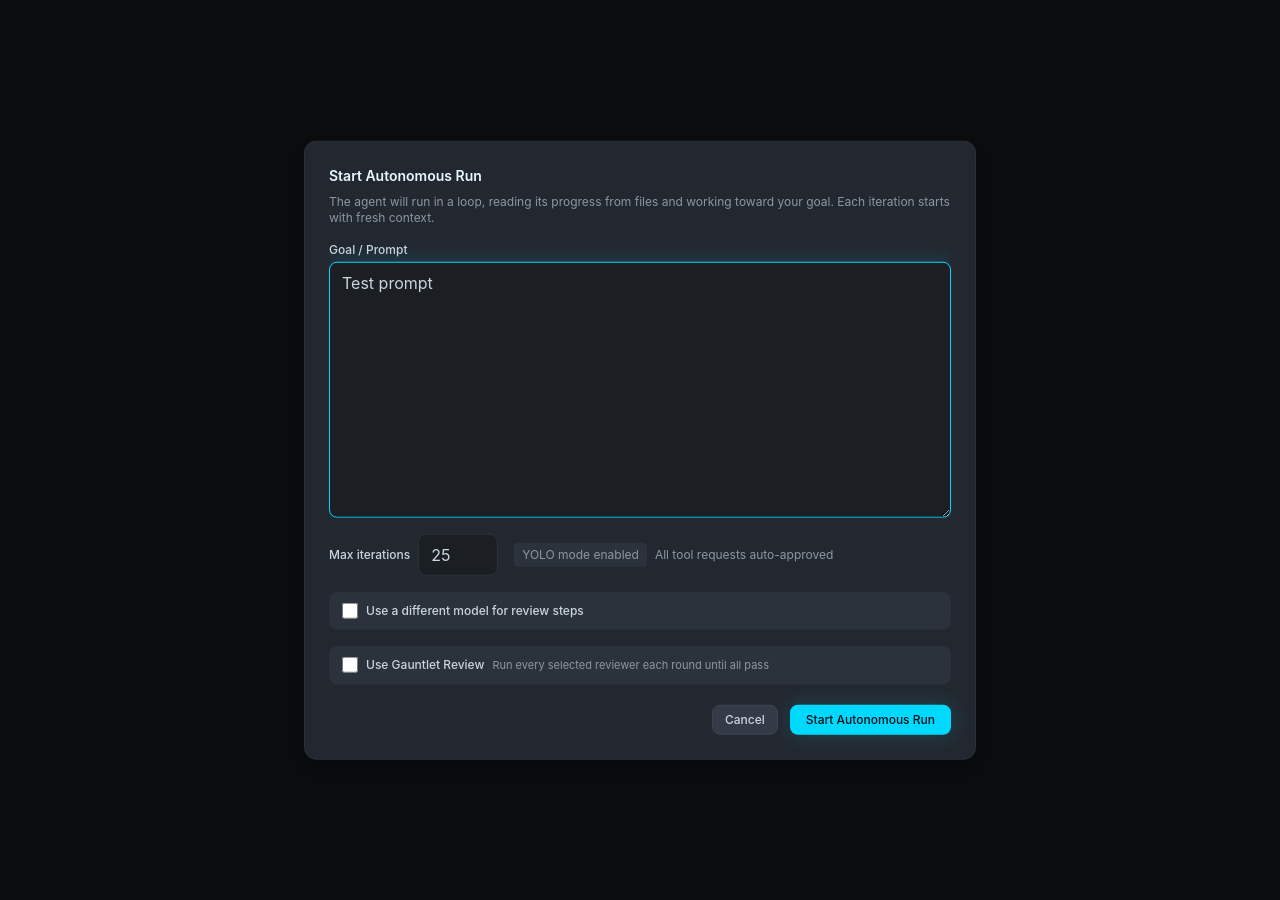
Test: AutonomousDialog › review agent configuration › shows model selector when checkbox is enabled
What coordinates should you click on to do the following:
click the checkbox with test id "autonomous-use-review-agent-checkbox"
I would click on:
 (350, 611)
Its box is [342,603,358,619].
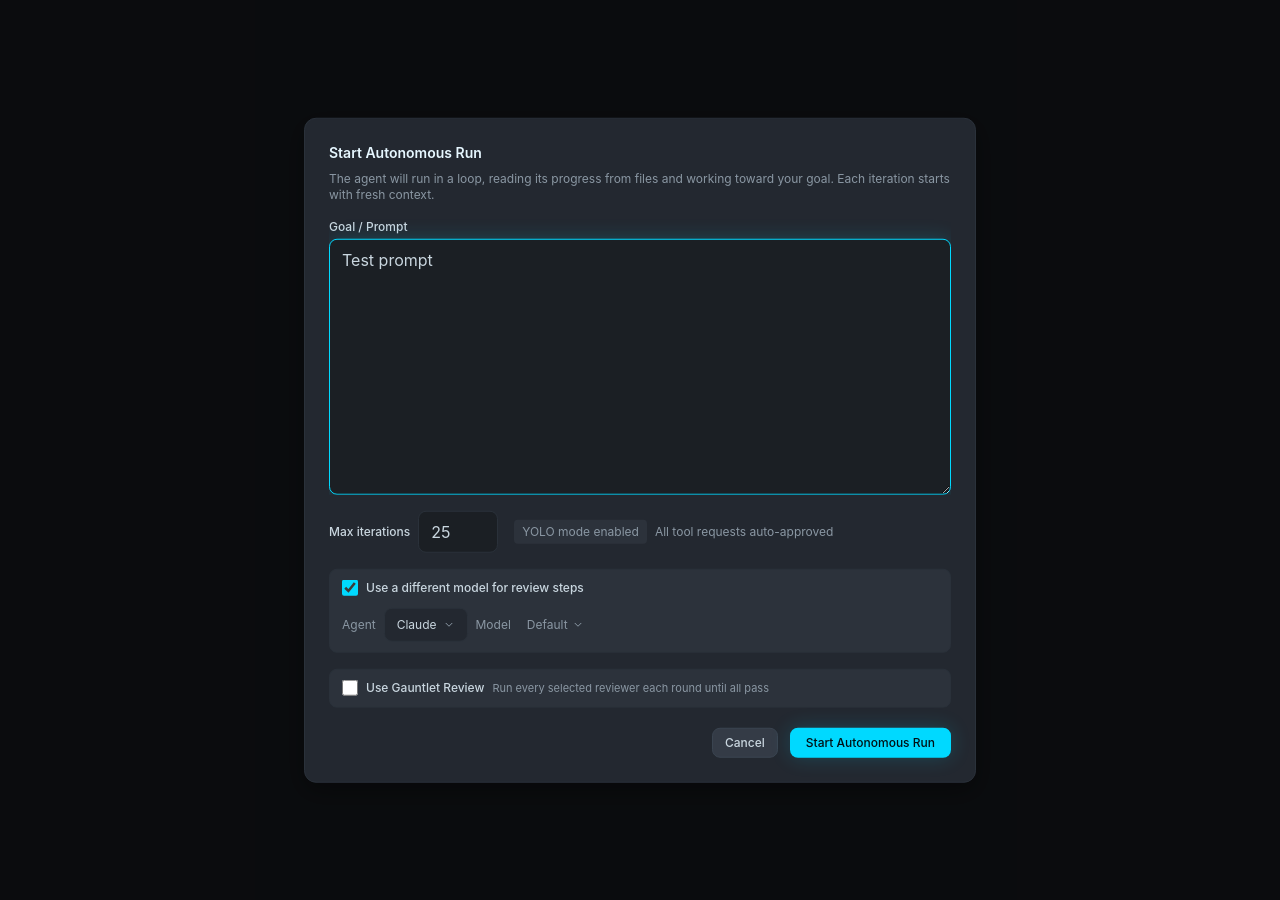
Now the button with test id "model-selector" is shown, box [519,613,592,637]
